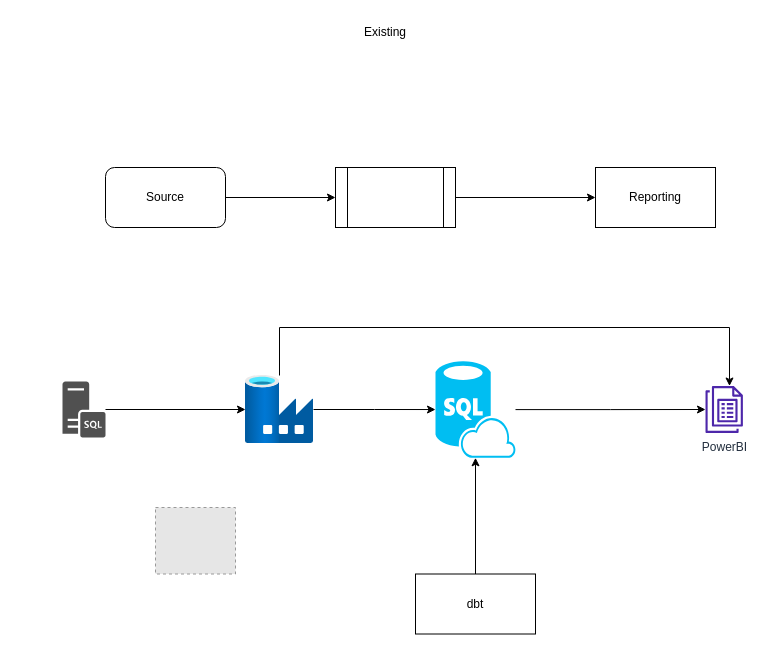
The diagram is 764 pixels wide and 651 high, and some of its shapes have lost their labels. Grey dashed boxes stand in for pictures. Here are the shapes that lost their labels. From the top down, the centre of each, then its label:
the point at 395,197: Transforamtion tech
the point at 83,409: On-Premises SQL server
